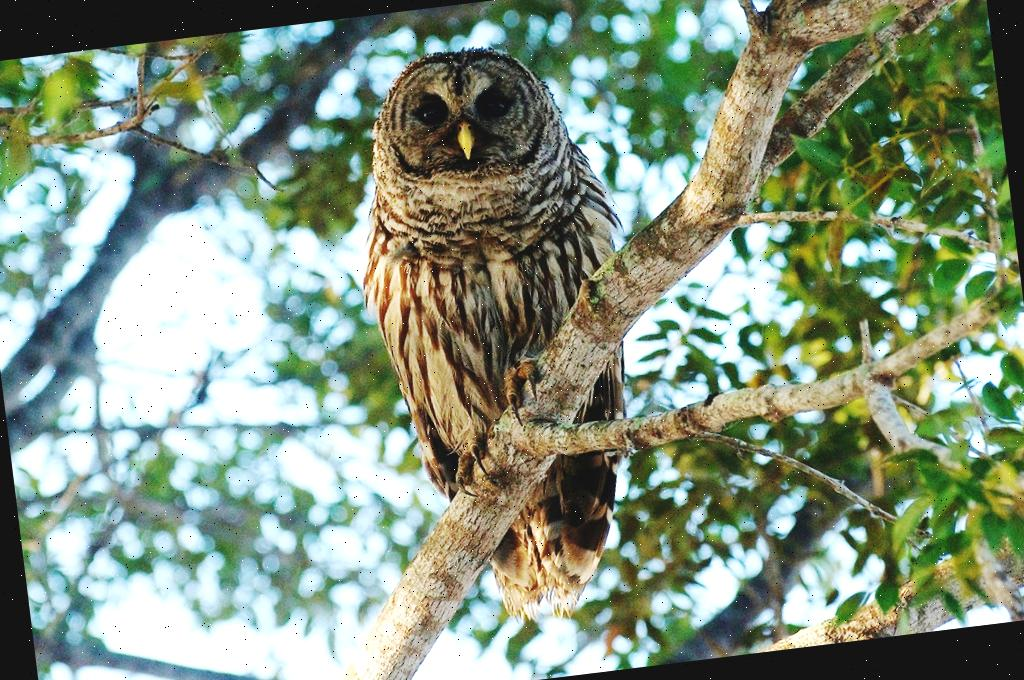Owl: (332, 28, 669, 640)
